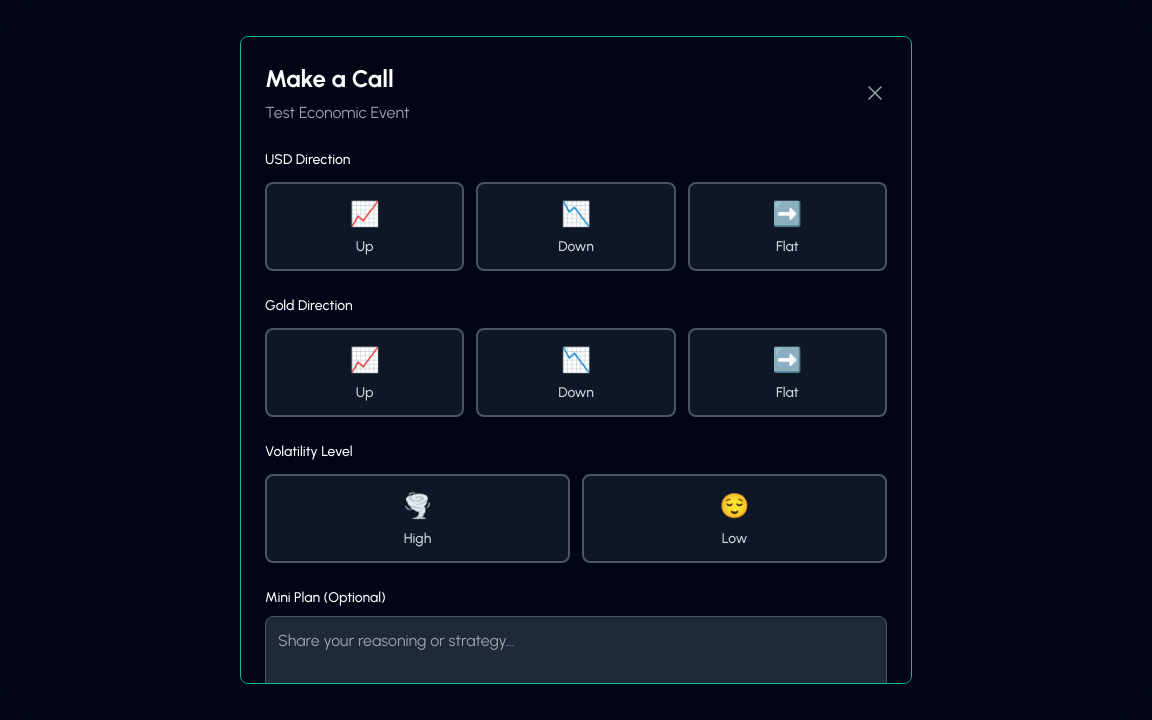
Scenario: MakeCallModal › shows character count
In the text box with placeholder "Share your reasoning or strategy...": (576, 665) 265,616 -> 887,714, type "Test"
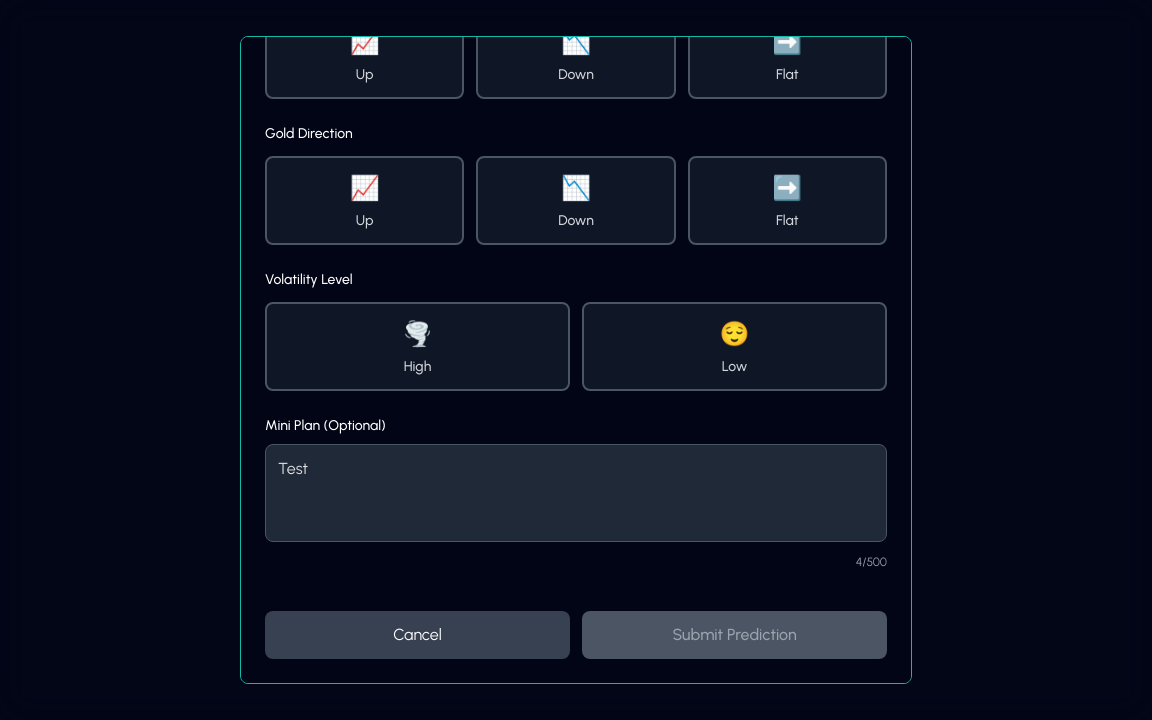
Expected: the text "4/500" is shown, 856,555 -> 887,569
